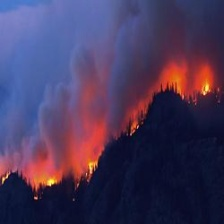fire: (193, 72, 217, 96), (39, 169, 62, 188), (85, 159, 98, 177)
